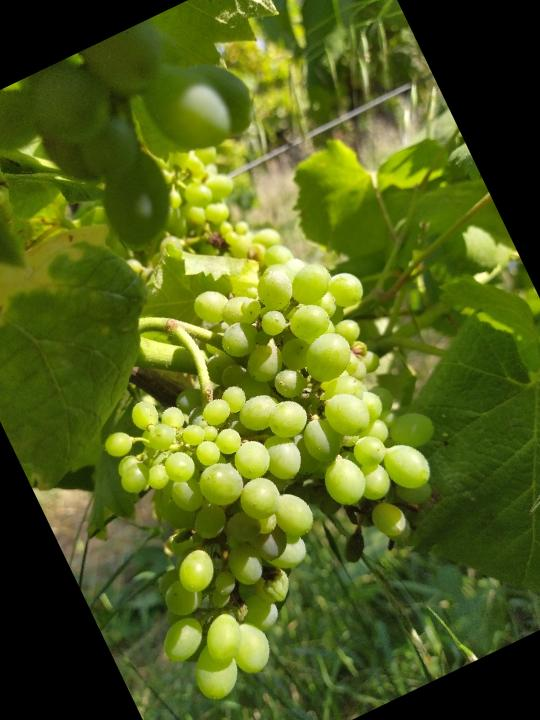grape: (24, 214, 503, 716)
